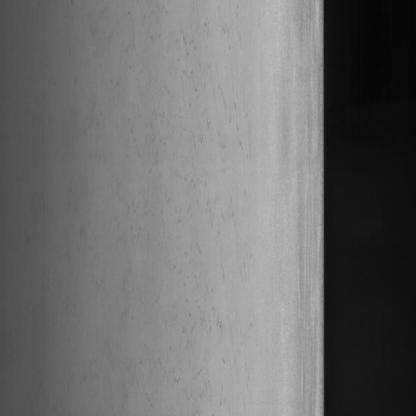silk_spot: (155, 22, 256, 369)
